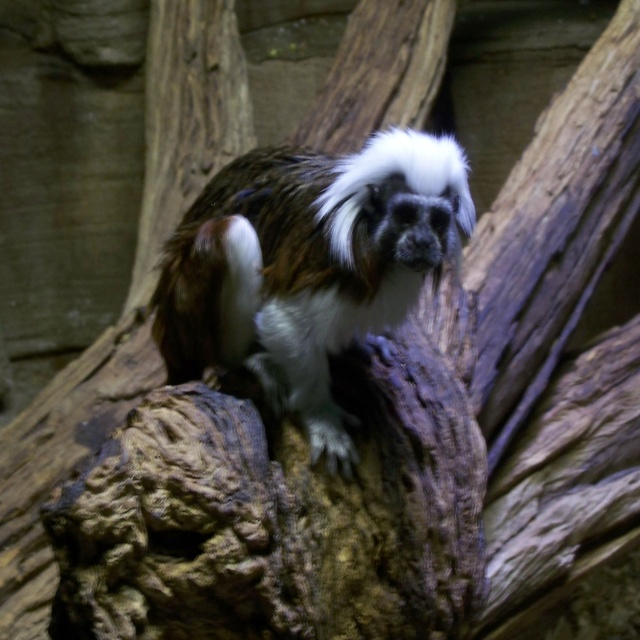Monkey: (138, 124, 480, 505)
